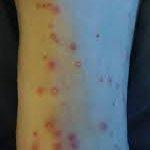Ants: (46, 30, 66, 49), (67, 133, 79, 149), (34, 84, 47, 97), (43, 118, 56, 131), (46, 59, 56, 71), (69, 42, 79, 53), (97, 76, 108, 86), (97, 122, 107, 132), (51, 130, 62, 139), (46, 20, 55, 29), (53, 4, 61, 13), (40, 51, 48, 60), (74, 59, 81, 69), (52, 142, 61, 149), (50, 85, 56, 95), (115, 81, 121, 91), (32, 143, 39, 149), (32, 131, 37, 138)
